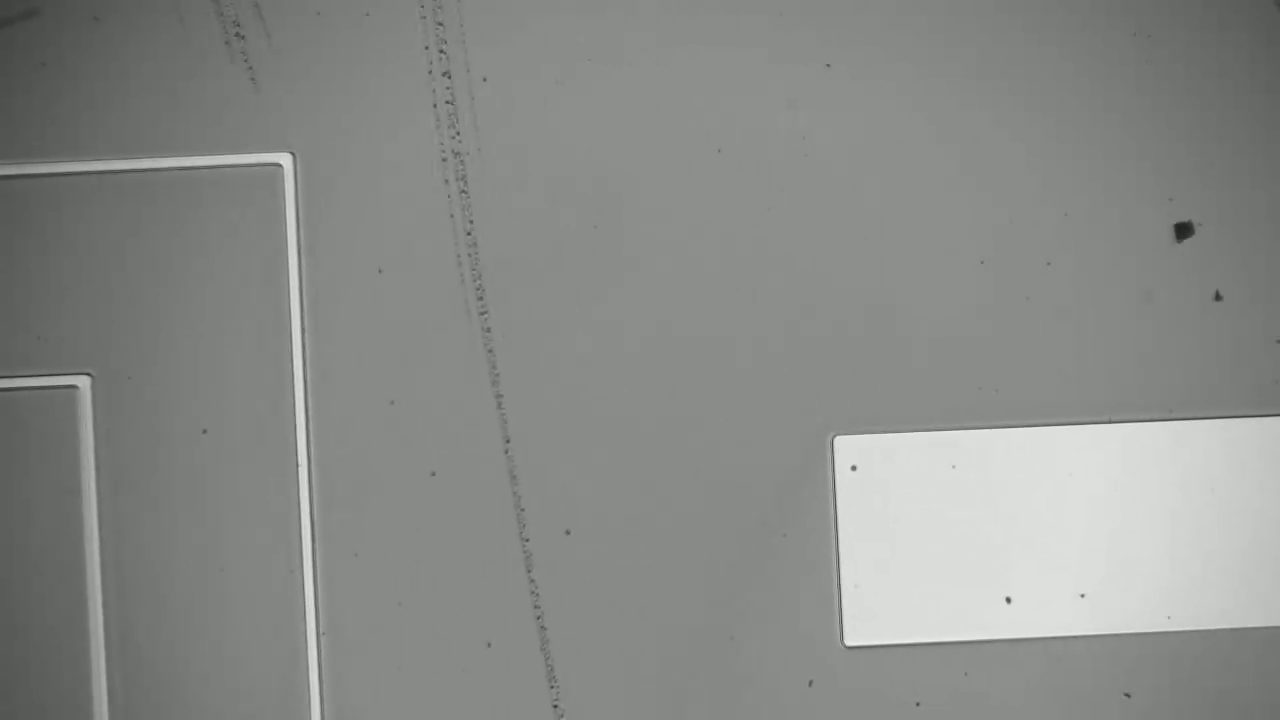scratch: (430, 11, 567, 716), (208, 2, 264, 93)
